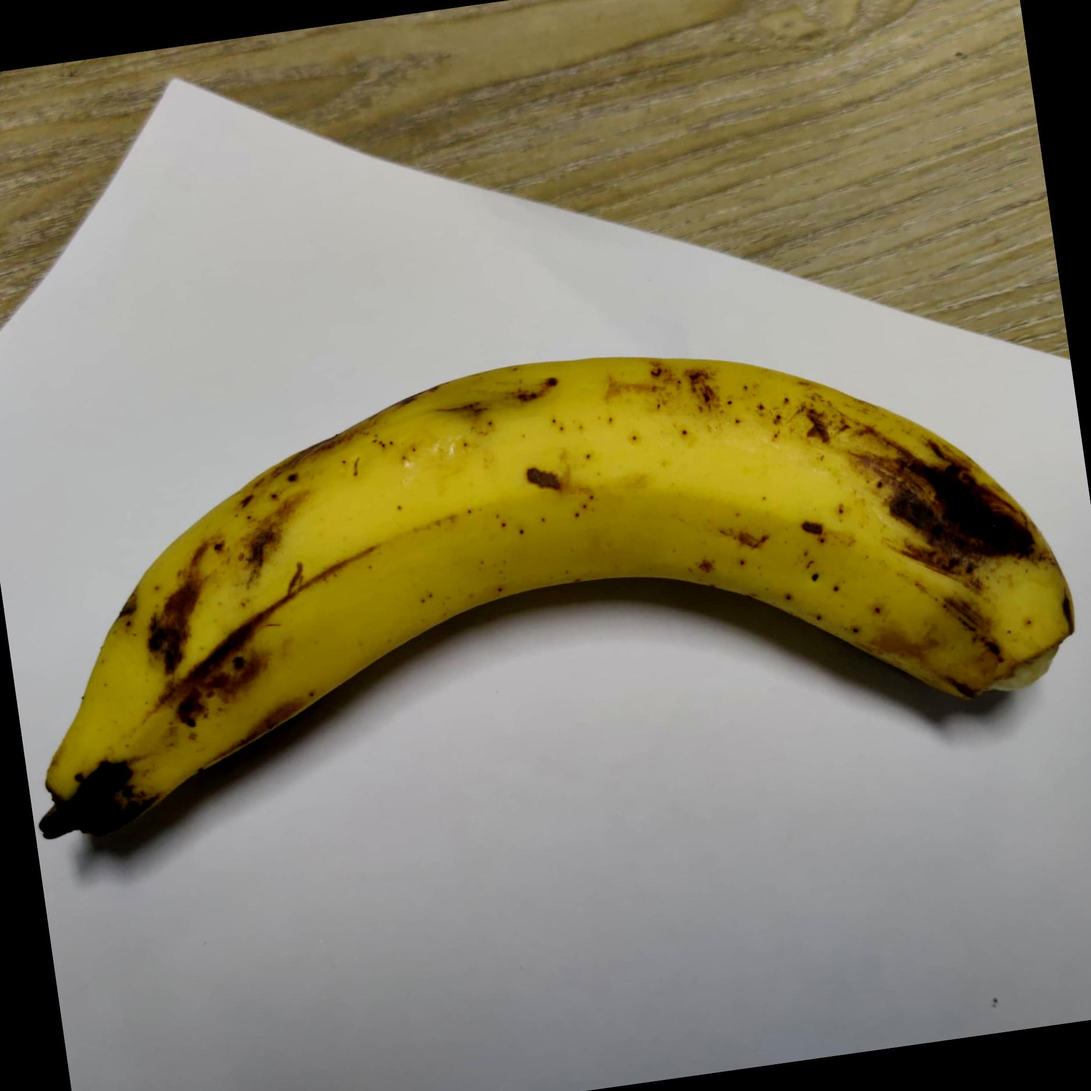Banana Ripe: (0, 272, 1091, 896)
